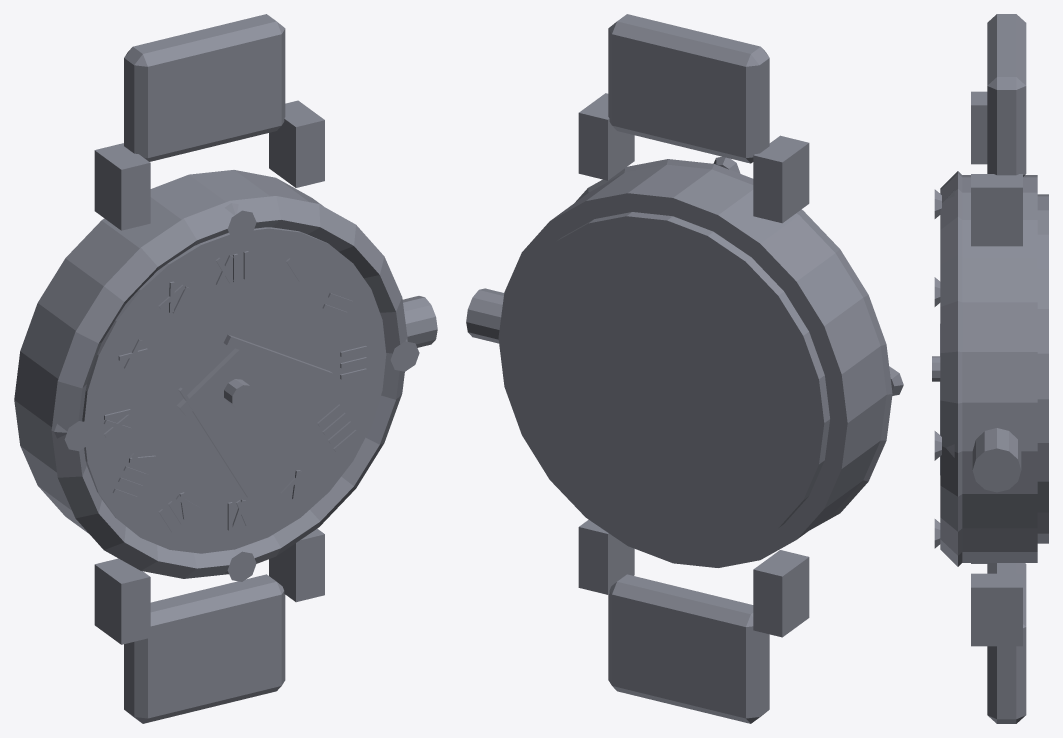
Rendered from rlj_legacy.fbx.
3 views of the same model, side by side, from view 1: azimuth 30°, elevation 25°; view 2: azimuth 150°, elevation 25°; view 3: azimuth 270°, elevation 25° (orthographic). The views are drawn at different scales.
Visible parts, largest first — view 1: Esfera__esmalte_cosmico, Caja__cuero_correa, Caja__metal_oro_pulido, Caja__metal_oro_cepillado, Esfera__metal_oro_pulido, Manecillas__metal_oro_pulido, Caja__gema_zafiro; view 2: Caja__metal_oro_pulido, Caja__cuero_correa, Caja__metal_oro_cepillado; view 3: Caja__metal_oro_pulido, Caja__cuero_correa, Caja__metal_oro_cepillado, Caja__gema_zafiro, Manecillas__metal_oro_pulido.
Part boxes in pixels (x1=…): Esfera__esmalte_cosmico: x1=82, y1=227, x2=386, y2=553; Caja__cuero_correa: x1=124, y1=14, x2=285, y2=723; Caja__metal_oro_pulido: x1=14, y1=100, x2=437, y2=644; Caja__metal_oro_cepillado: x1=51, y1=196, x2=407, y2=578; Esfera__metal_oro_pulido: x1=103, y1=251, x2=366, y2=532; Manecillas__metal_oro_pulido: x1=177, y1=334, x2=332, y2=416; Caja__gema_zafiro: x1=54, y1=203, x2=419, y2=581; Caja__metal_oro_pulido: x1=466, y1=93, x2=886, y2=637; Caja__cuero_correa: x1=608, y1=14, x2=769, y2=723; Caja__metal_oro_cepillado: x1=575, y1=159, x2=892, y2=529; Caja__metal_oro_pulido: x1=962, y1=91, x2=1048, y2=646; Caja__cuero_correa: x1=987, y1=14, x2=1026, y2=723; Caja__metal_oro_cepillado: x1=940, y1=171, x2=962, y2=566; Caja__gema_zafiro: x1=934, y1=189, x2=954, y2=548; Manecillas__metal_oro_pulido: x1=932, y1=356, x2=940, y2=381.
Bounding box in the file's own units: 135 × 220 × 36.
